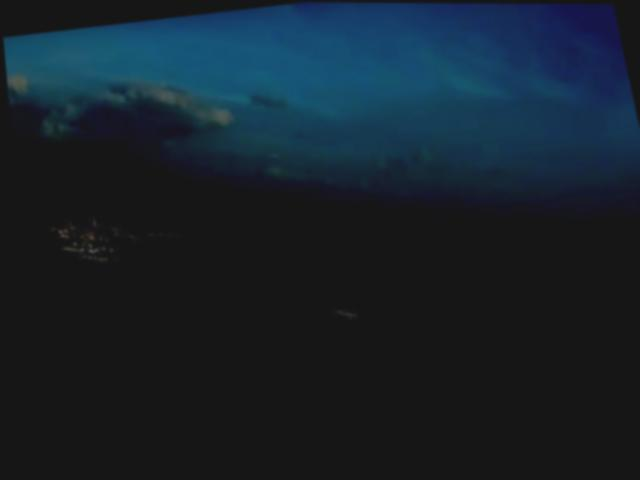iha: (329, 306, 354, 320)
